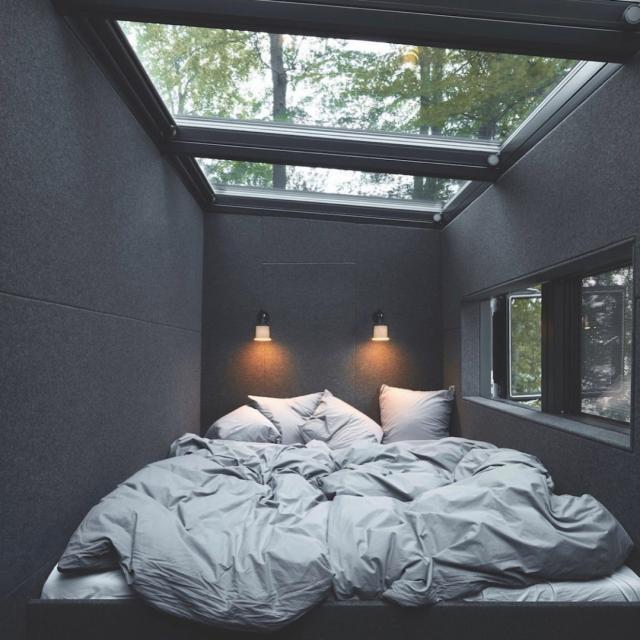bed: (64, 383, 539, 624)
